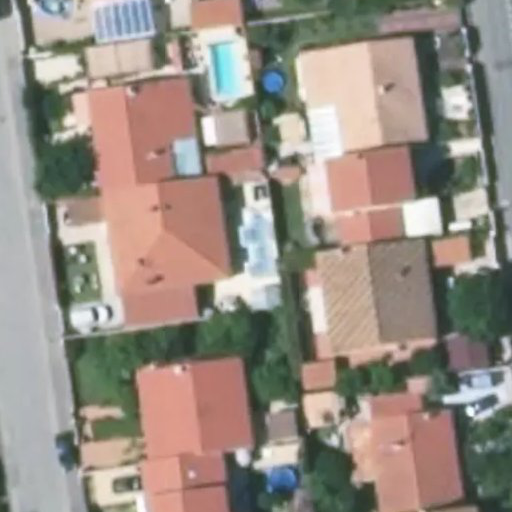pool: (237, 212, 274, 271)
